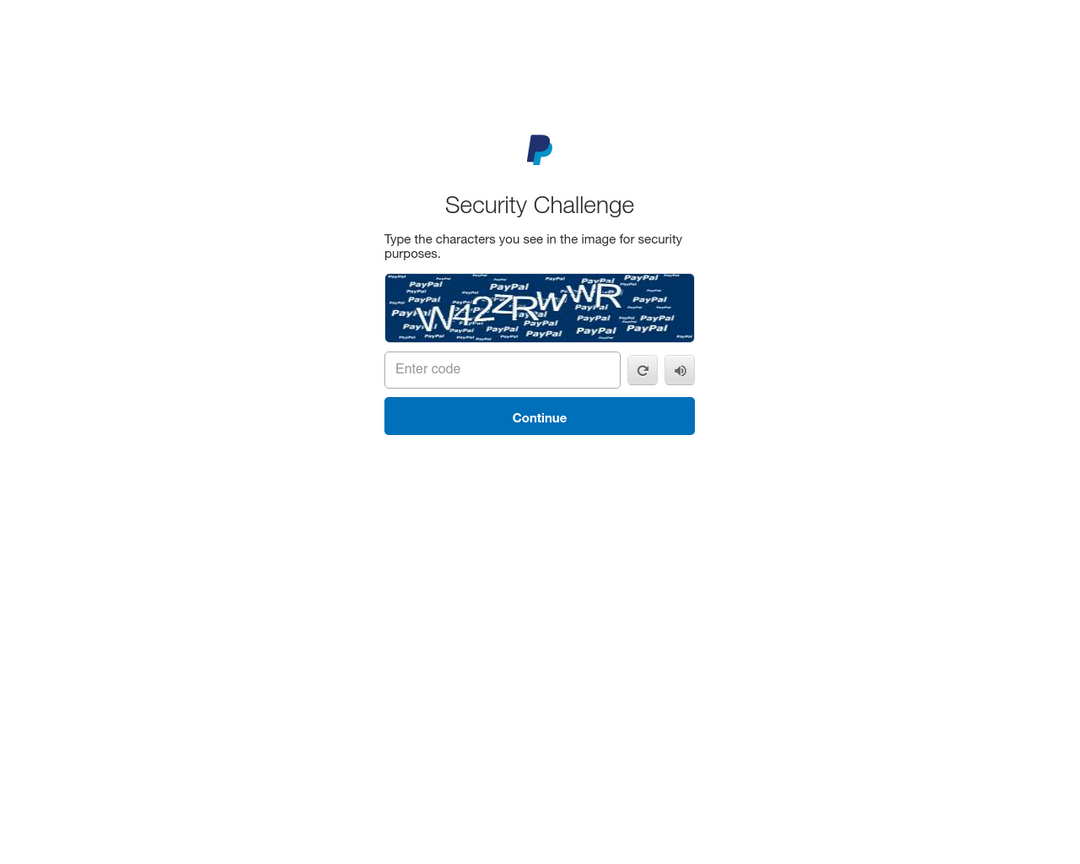Paypal: (69, 12, 183, 49)
